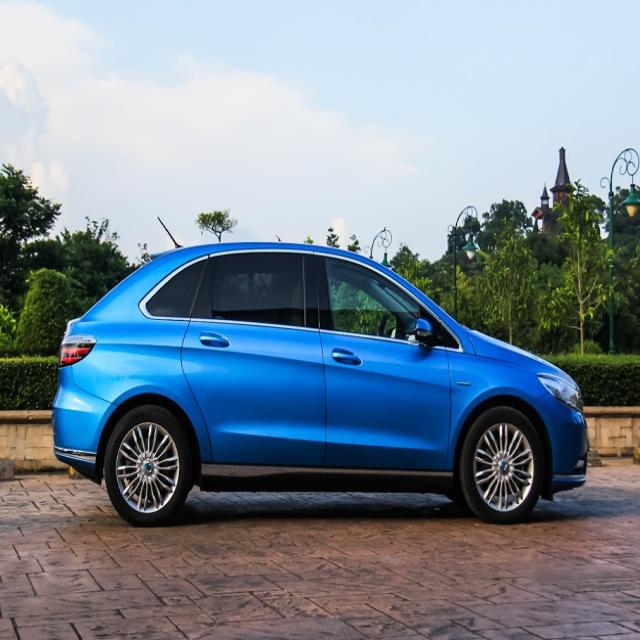back_right_side_light: (51, 316, 108, 384)
door: (184, 249, 334, 484)
front_right_side_door: (309, 242, 461, 490)
front_right_side_light: (531, 362, 587, 425)
front_right_side_mirror: (411, 314, 438, 359)
wheel: (94, 396, 206, 538), (456, 398, 551, 534)
